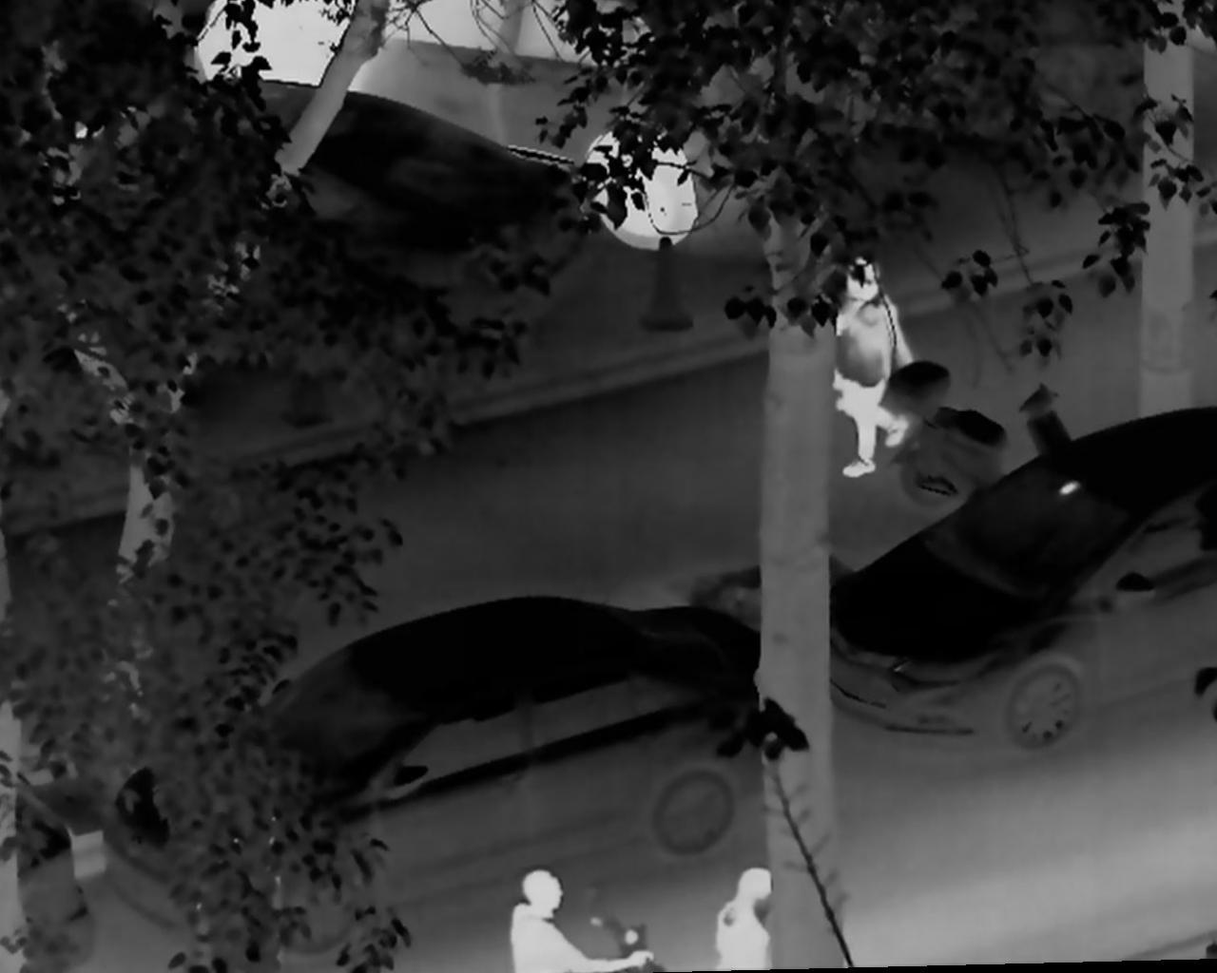person: (811, 249, 908, 484), (495, 859, 654, 973), (704, 853, 772, 973)
